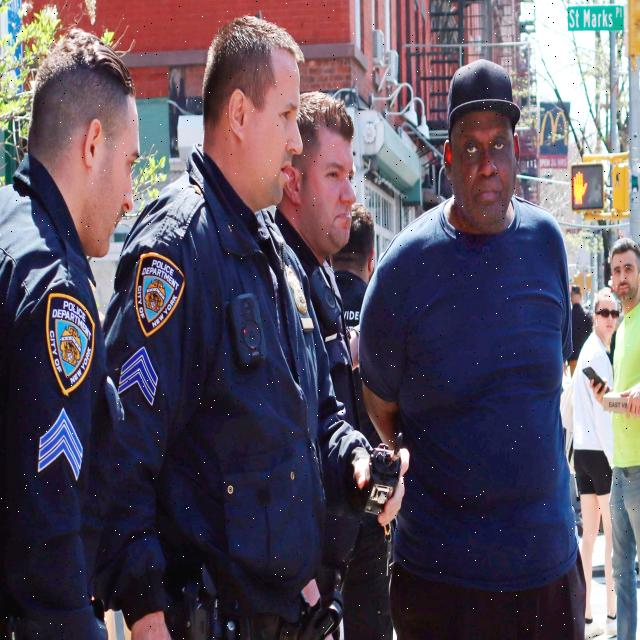police: (130, 5, 329, 640), (0, 14, 135, 640), (287, 65, 405, 640)
